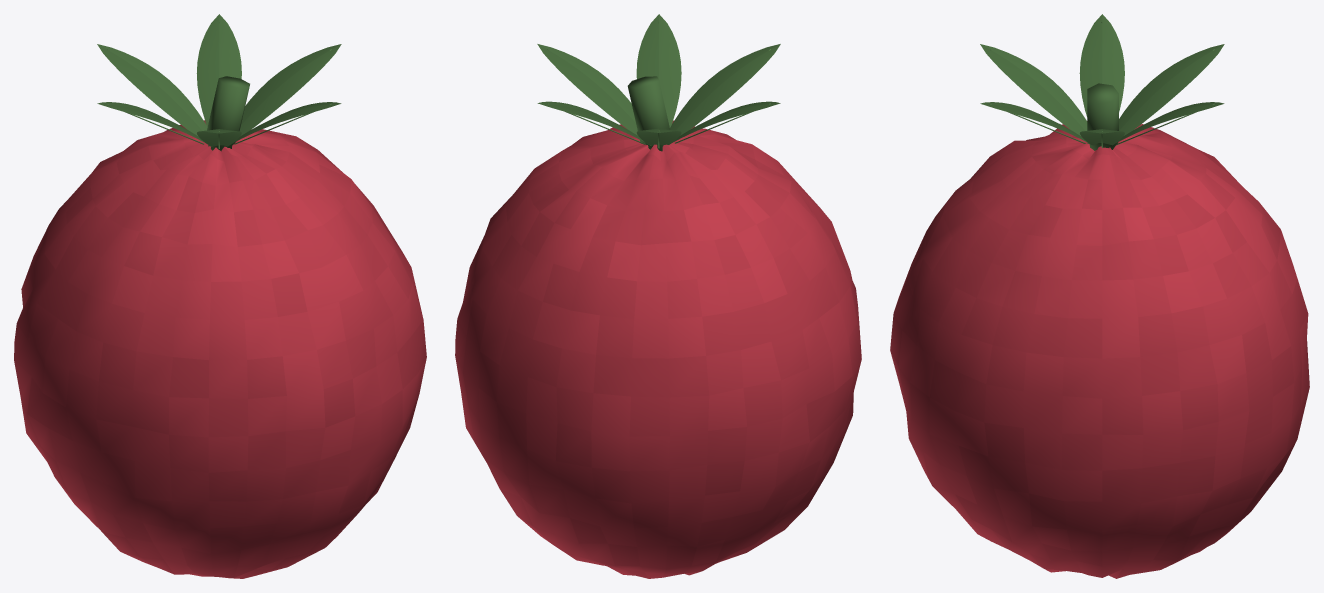
The model's file is Radish.glb.
3 renders of one model, left to right at view 1: azimuth 30°, elevation 25°; view 2: azimuth 150°, elevation 25°; view 3: azimuth 270°, elevation 25°, orthographic.
Visible parts, largest first — view 1: Radish; view 2: Radish; view 3: Radish.
Part boxes in pixels (box(x1,y1,x2,y2)): Radish: box(14, 14, 426, 578); Radish: box(455, 14, 861, 578); Radish: box(890, 14, 1309, 578).
Size of what is drawn, in the model's own units: 0.0685 by 0.0911 by 0.0706.
